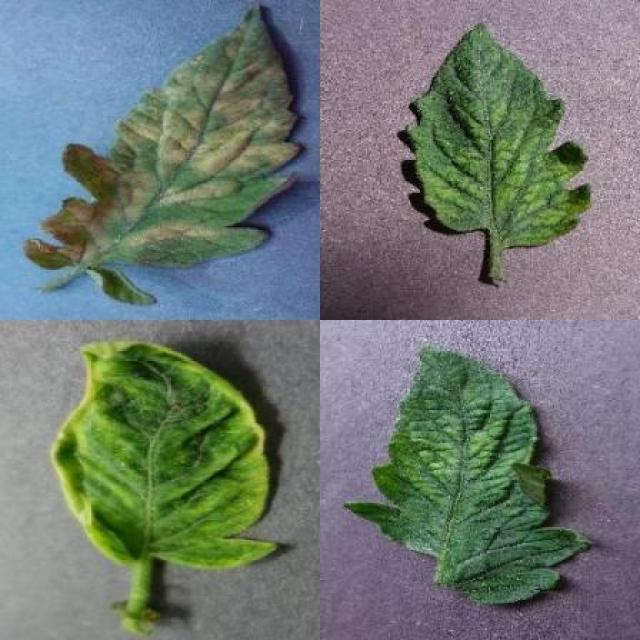Leaf Mold: (24, 0, 305, 267)
Mosaic Virus: (343, 345, 598, 608), (404, 20, 596, 250)
Yellow Leaf Curl Virus: (50, 338, 277, 572)
